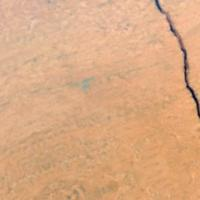crack: (143, 0, 199, 118)
